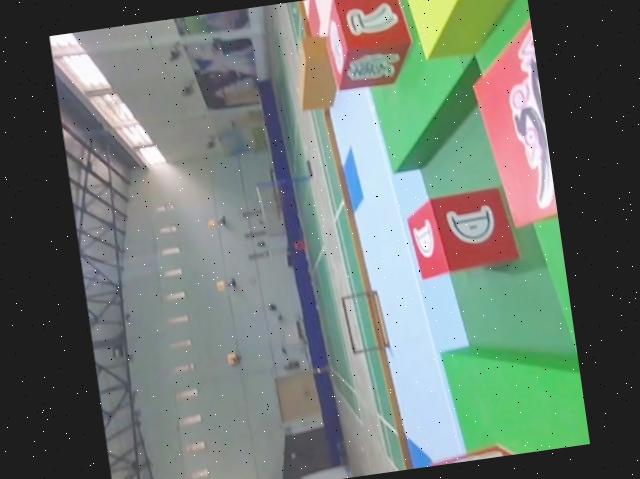R1: (453, 2, 559, 232)
R2 Fake: (313, 0, 418, 91)
R2 Real: (400, 181, 525, 281)
